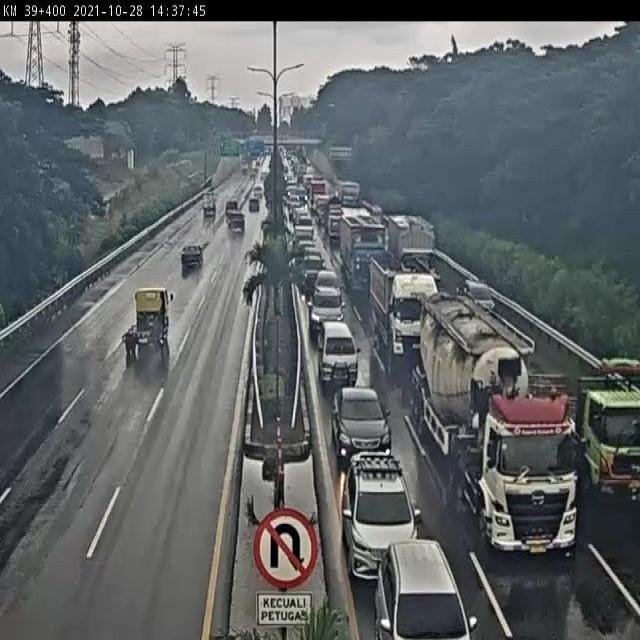big truck: (417, 301, 593, 559), (559, 332, 640, 521), (366, 257, 456, 371), (336, 212, 392, 299), (389, 208, 447, 288)
car: (366, 525, 474, 640), (335, 450, 431, 578), (309, 317, 371, 400), (329, 385, 399, 455), (307, 287, 348, 340), (176, 228, 209, 291), (459, 274, 500, 322), (310, 266, 353, 310), (226, 209, 247, 236), (245, 182, 268, 202), (224, 194, 243, 214), (247, 194, 262, 218)
small truck: (120, 280, 172, 367), (197, 188, 220, 220)
